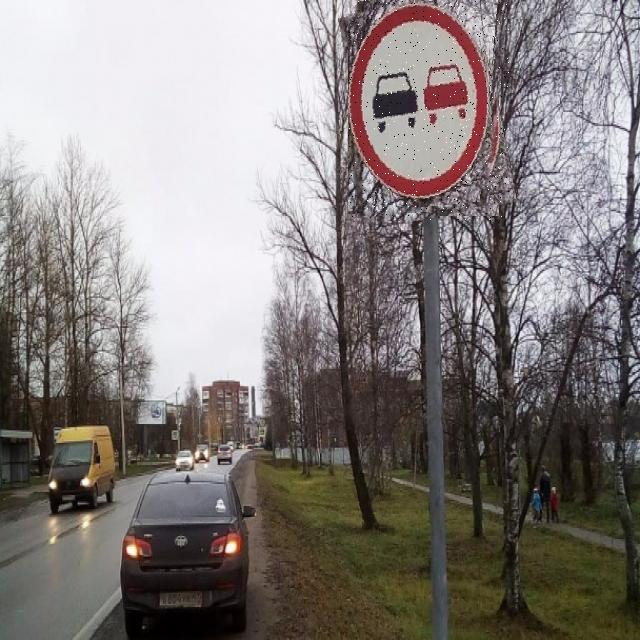no overtaking: (348, 0, 509, 221)
